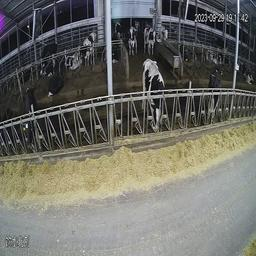cow: (140, 57, 167, 134), (18, 85, 40, 159), (204, 65, 222, 121), (76, 28, 97, 67), (47, 61, 64, 97), (143, 25, 158, 58), (63, 50, 84, 72), (39, 57, 60, 79), (36, 43, 55, 66), (126, 24, 138, 57), (239, 61, 254, 86), (112, 20, 126, 45), (213, 36, 229, 55), (105, 45, 119, 64), (206, 48, 221, 65), (159, 22, 169, 43), (179, 42, 189, 63)
